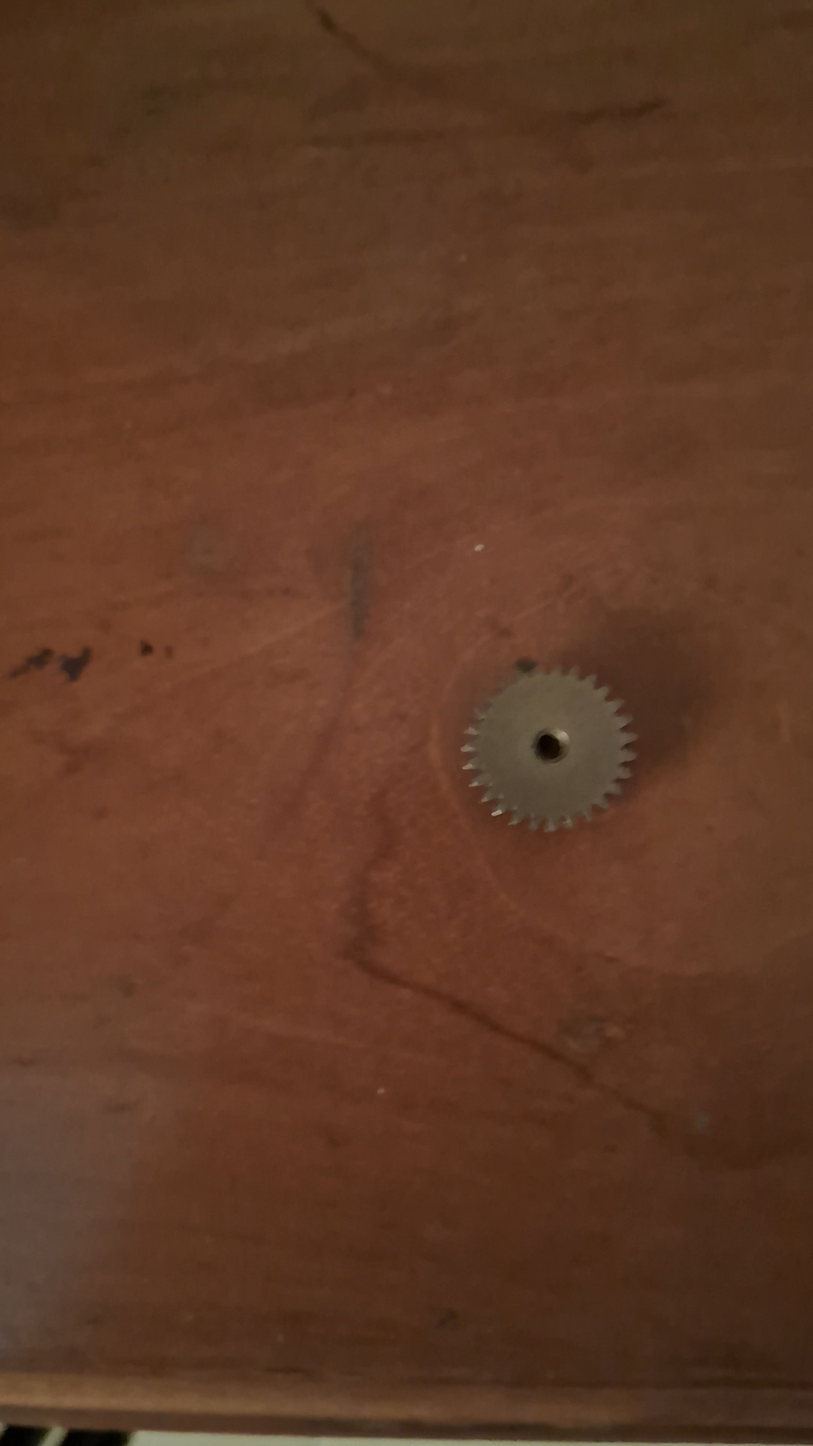spur gear: (463, 667, 636, 831)
